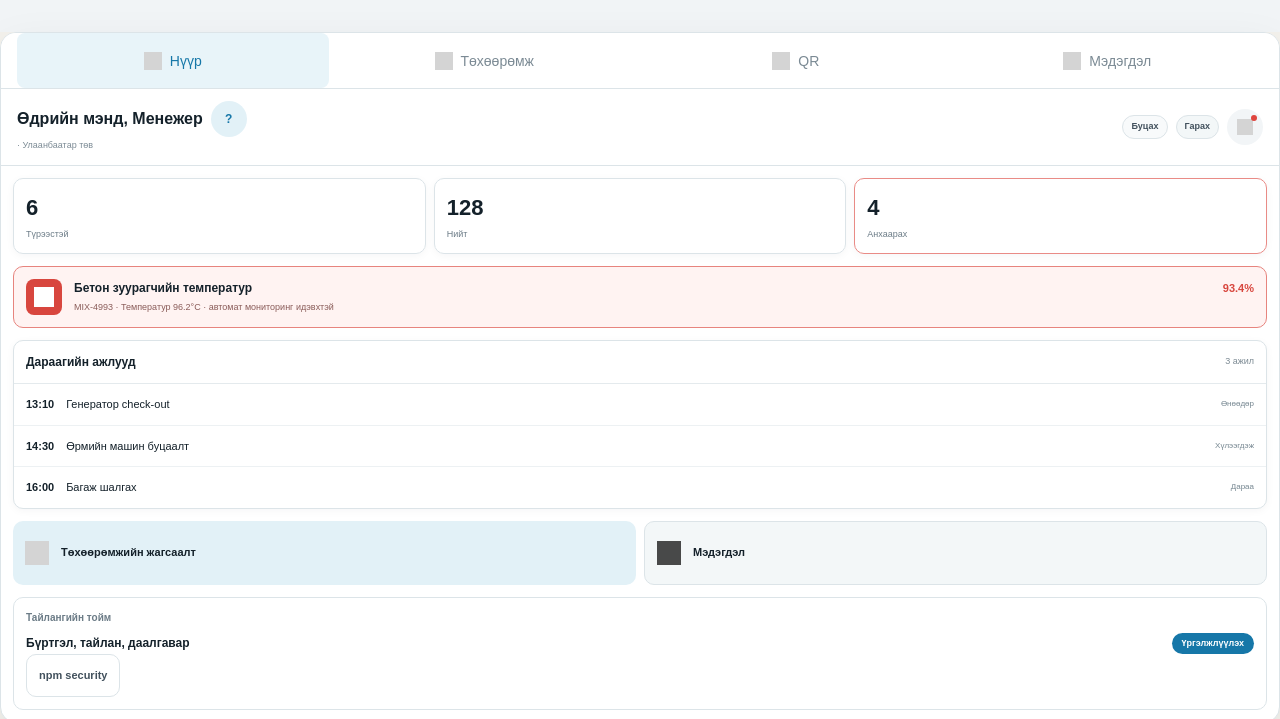
Test: MobileOpsApp screens › navigates from home to notifications using the bottom menu
Step 1. Click the 1st button "Мэдэгдэл" → (1107, 60), box [952,33,1263,88]
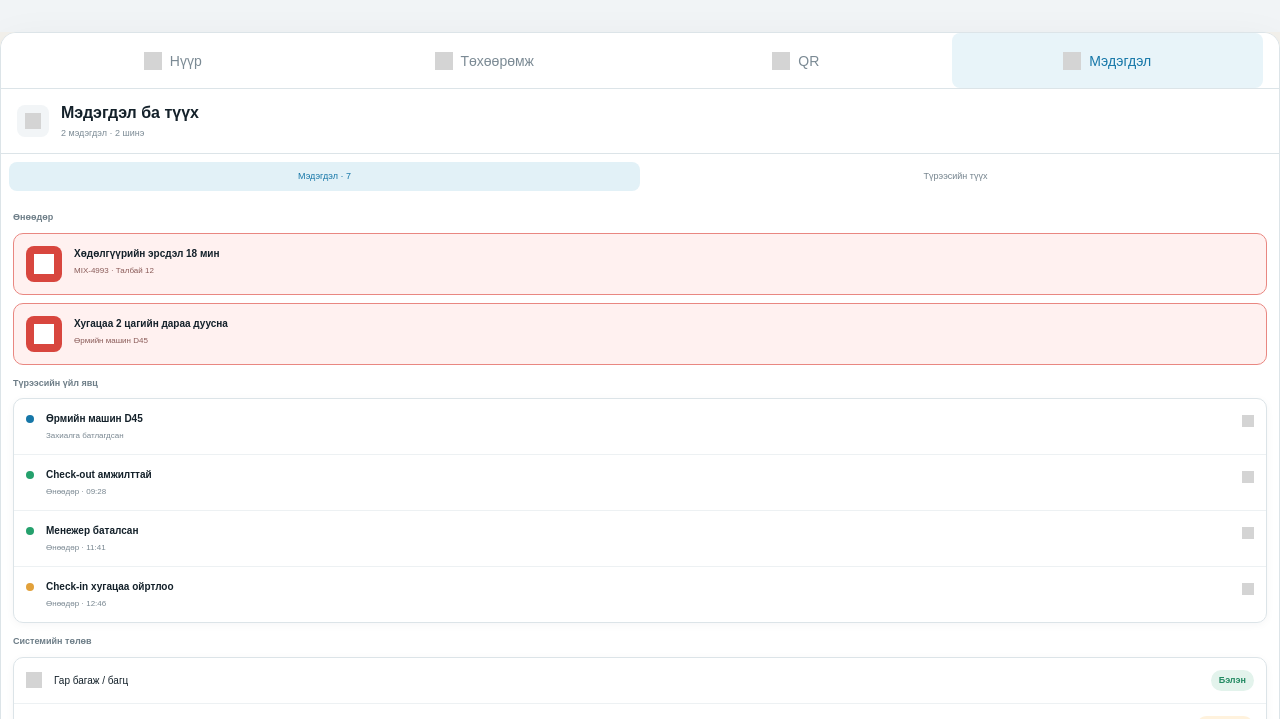
Check: the heading "Мэдэгдэл ба түүх" is shown, box [61,101,199,125]
